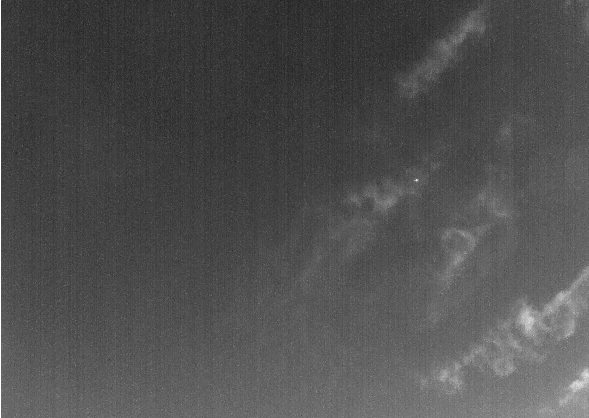dim target: (413, 178, 420, 183)
